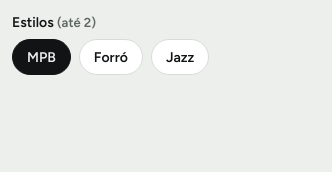
componentes compartilhados › ChipPicker respeita o limite de seleção
The width and height of the screenshot is (332, 172).
Click the checkbox labelled "Forró": (111, 57) [79, 39, 143, 75]
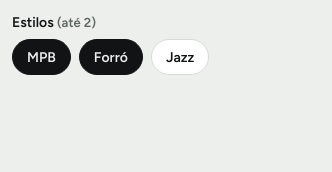
Check: the checkbox labelled "Jazz" is disabled, box [151, 39, 209, 75]
Check: the checkbox labelled "Forró" is checked, box [79, 39, 143, 75]
